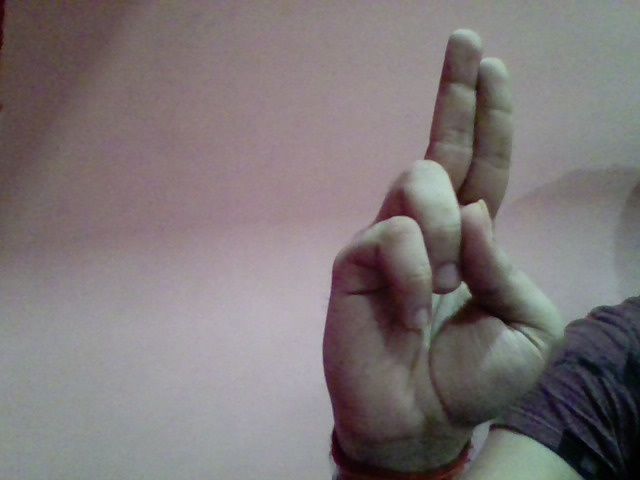u: (315, 15, 570, 447)
